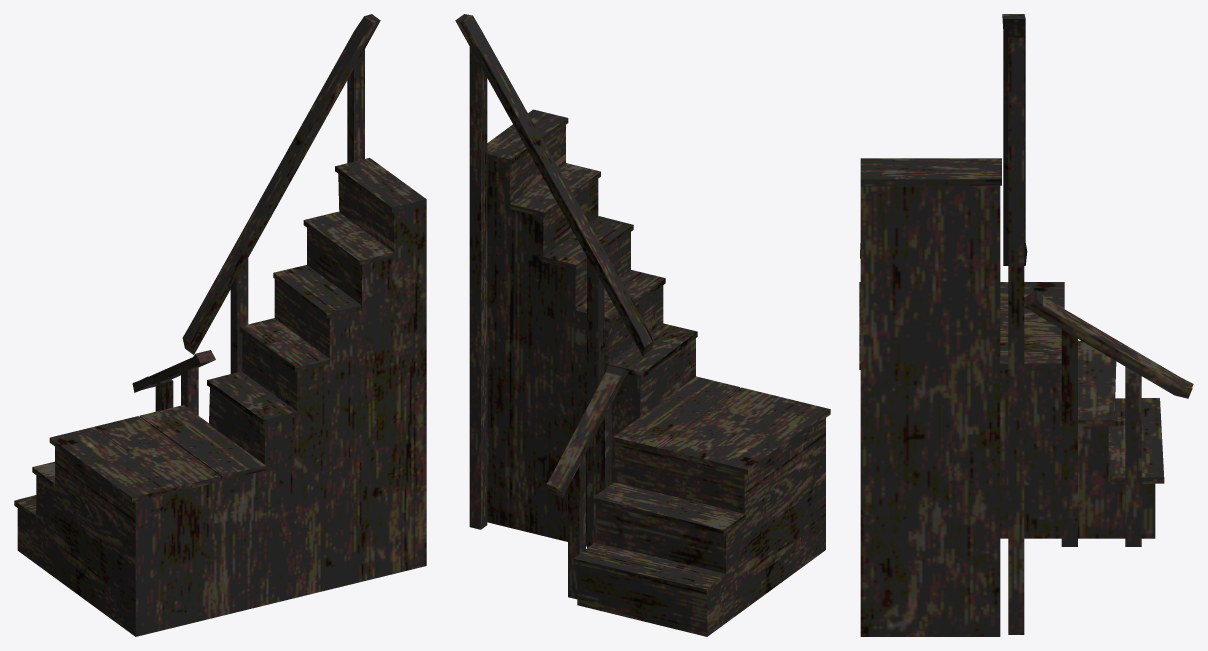
The model's file is HomeStairs.fbx.
3 renders of one model, left to right at view 1: azimuth 30°, elevation 25°; view 2: azimuth 150°, elevation 25°; view 3: azimuth 270°, elevation 25°, orthographic. The views are drawn at different scales.
Parts seen in each view (by area): view 1: Cube.021; view 2: Cube.021; view 3: Cube.021.
Part boxes in pixels (x1,y1,x2,y2): Cube.021: (14,14,426,636); Cube.021: (455,14,830,636); Cube.021: (859,14,1193,636).
Size of the model in its own units: 79.95 by 60.52 by 125.
Materials: 1 (1 with a texture image).
